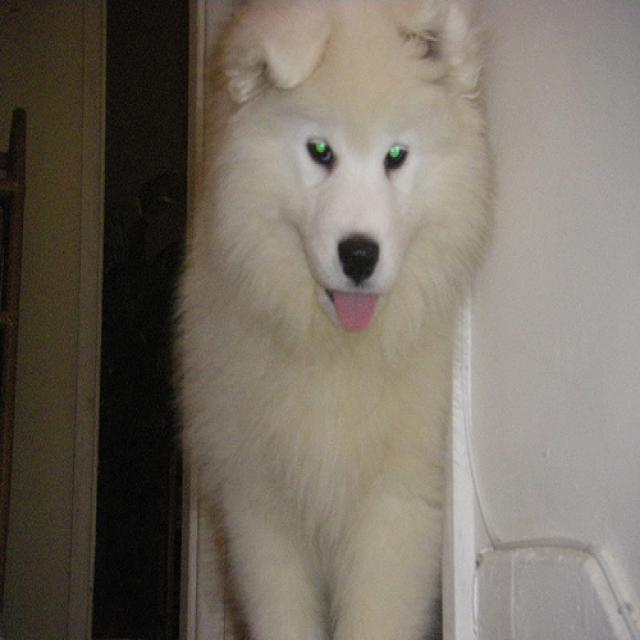dog-samoyed: (175, 2, 503, 637)
